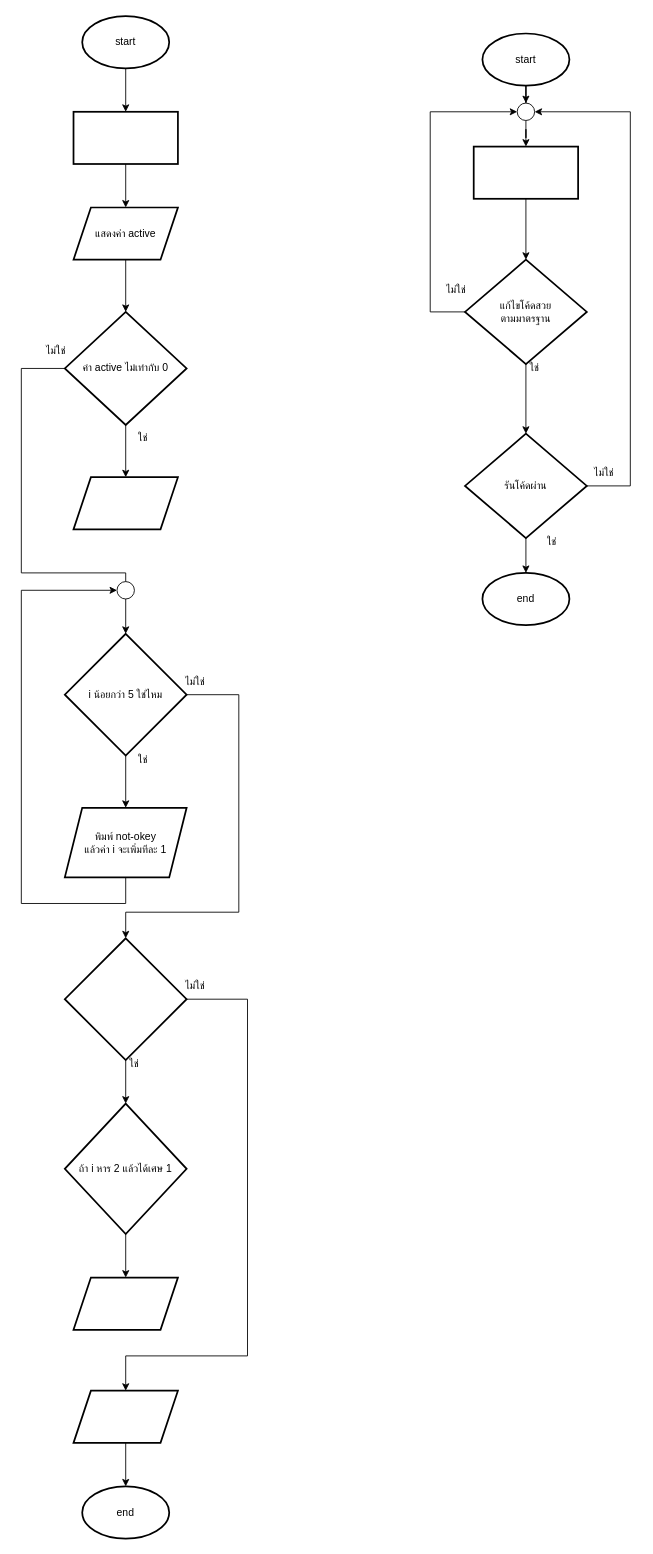
Image size: 653x1554. Some labels were removed from this diagram. The shapes that lost their labels are listed below. From the top down, each one's centre as x and y in pixels, then its label:
At (125,137): "กำหนดตัวแปร a , b = 0 active = 0 i = o".
At (525,172): "ทำการแก้ไขโค้ด มาตรฐาน codex".
At (125,503): "แสดง ok".
At (125,999): "กำหนดให้ i = 3 ใน for วนถ้า i < 10 .ให้ +1".
At (125,1303): "แสดง see see".
At (125,1416): "แสดง haha".
